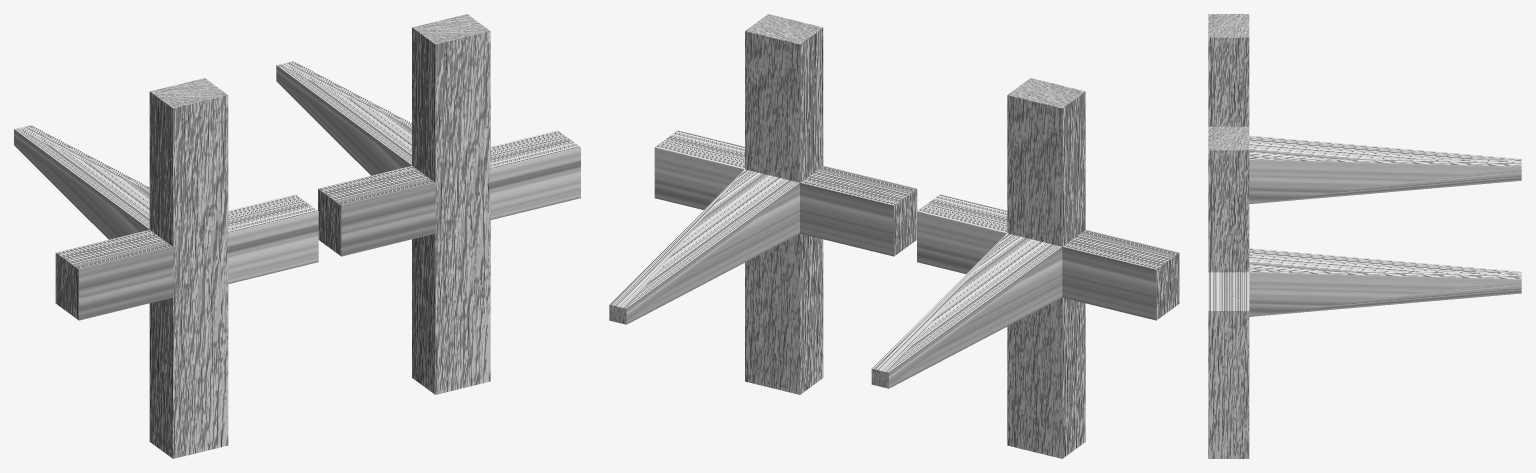
Rendered from pendientesplata2.glb.
3 views of the same model, side by side, from view 1: azimuth 30°, elevation 25°; view 2: azimuth 150°, elevation 25°; view 3: azimuth 270°, elevation 25° (orthographic). The views are drawn at different scales.
Parts seen in each view (by area): view 1: Cube.001, Cube; view 2: Cube, Cube.001; view 3: Cube, Cube.001.
Part boxes in pixels (bbox=[...]): Cube.001: bbox=[14, 78, 318, 458]; Cube: bbox=[276, 14, 580, 394]; Cube: bbox=[609, 14, 917, 394]; Cube.001: bbox=[871, 78, 1179, 458]; Cube: bbox=[1208, 126, 1521, 458]; Cube.001: bbox=[1208, 14, 1521, 204].
Size of the model in its own units: 2.24 by 1.5 by 1.38.
Materials: 1 (1 with a texture image).
